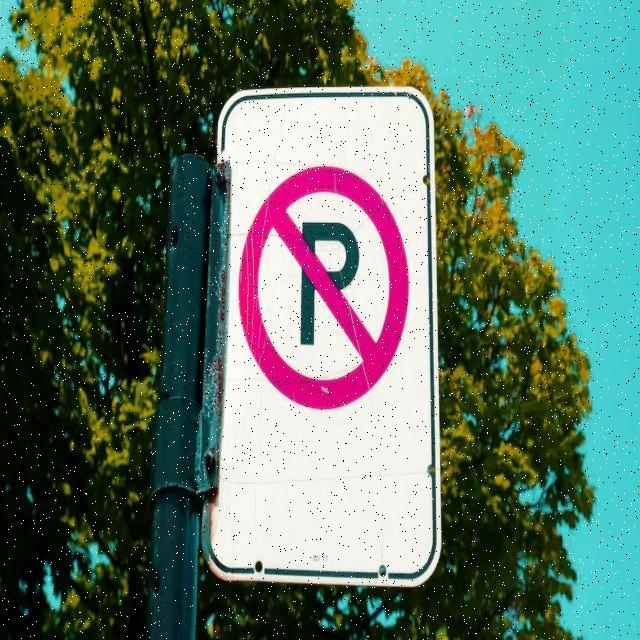No_parking: (242, 165, 410, 402)
